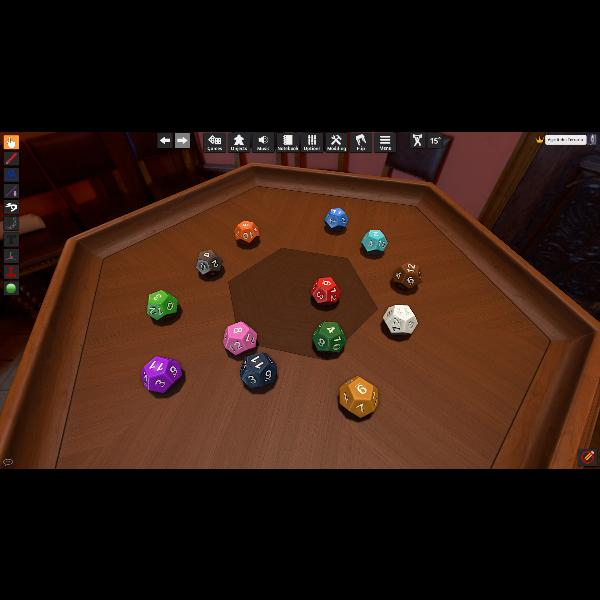d12: (338, 375, 378, 417), (142, 355, 182, 393), (240, 352, 278, 388), (382, 304, 418, 336), (223, 322, 257, 355), (312, 321, 344, 352), (147, 290, 178, 320), (392, 261, 422, 291), (311, 277, 339, 305), (196, 250, 222, 276), (235, 219, 259, 243), (360, 230, 386, 252), (325, 208, 347, 230)
